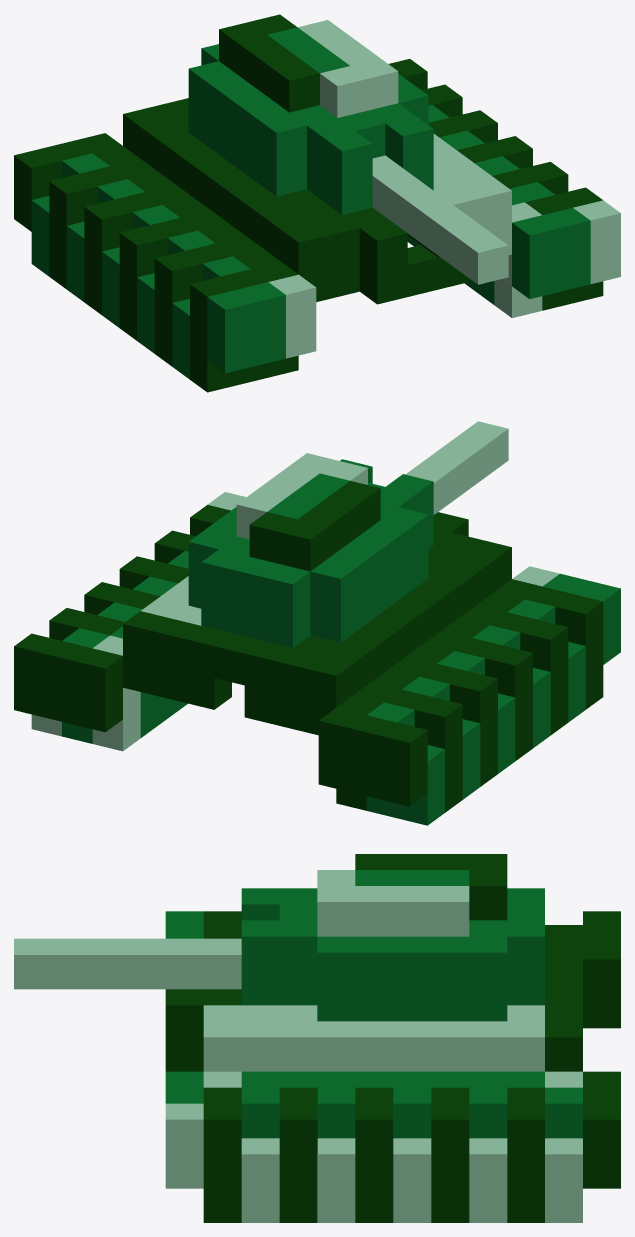
The model's file is basic_green_tank.glb.
The picture shows the model from 3 angles, top to bottom: view 1: azimuth 30°, elevation 25°; view 2: azimuth 150°, elevation 25°; view 3: azimuth 270°, elevation 25°; orthographic projection. The views are drawn at different scales.
Parts seen in each view (by area): view 1: Object_2.015; view 2: Object_2.015; view 3: Object_2.015.
Part boxes in pixels (<box>): Object_2.015: <box>14,14,620,392</box>; Object_2.015: <box>14,421,620,825</box>; Object_2.015: <box>14,854,620,1222</box>.
Bounding box in the file's own units: 13 × 7 × 16.
1 material, 1 textured.
